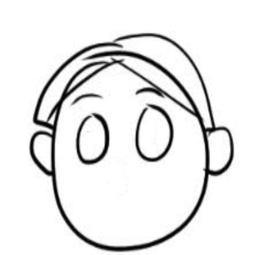ear: (18, 130, 61, 176), (203, 128, 237, 180)
empty_eye: (133, 102, 175, 164), (75, 109, 113, 168)
eyebrow: (131, 84, 170, 101), (67, 91, 103, 107)
